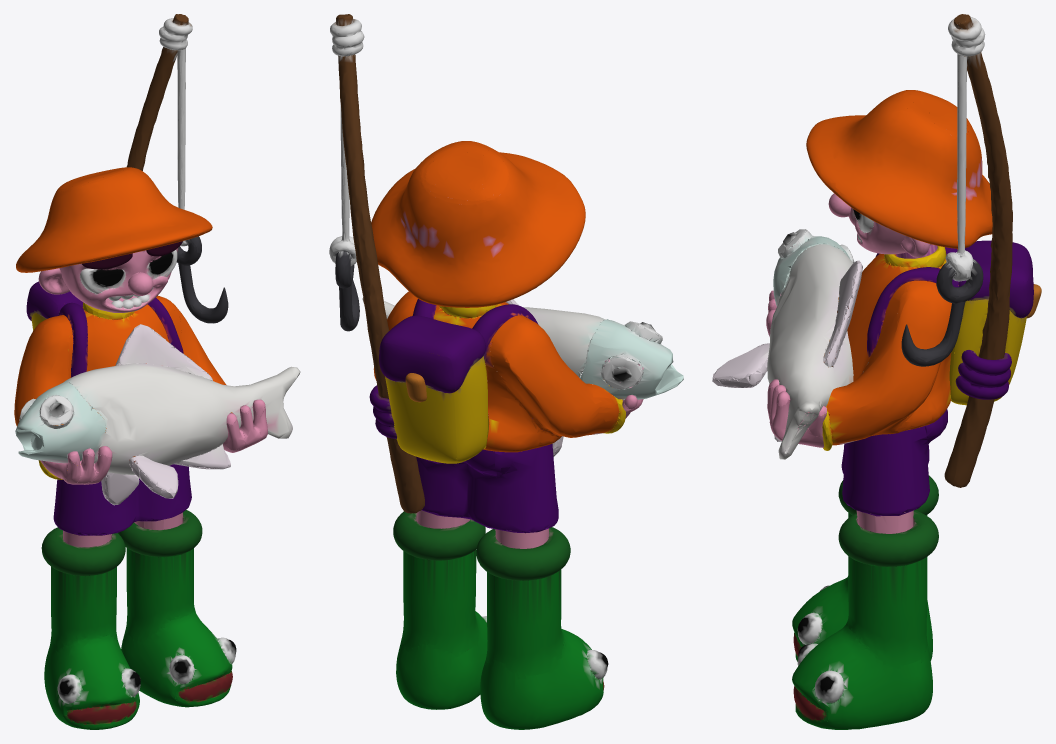
Rendered from toy1.glb.
3 views of the same model, side by side, from view 1: azimuth 30°, elevation 25°; view 2: azimuth 150°, elevation 25°; view 3: azimuth 270°, elevation 25° (orthographic). The views are drawn at different scales.
Size of the model in its own units: 1.51 by 3.19 by 1.32.
